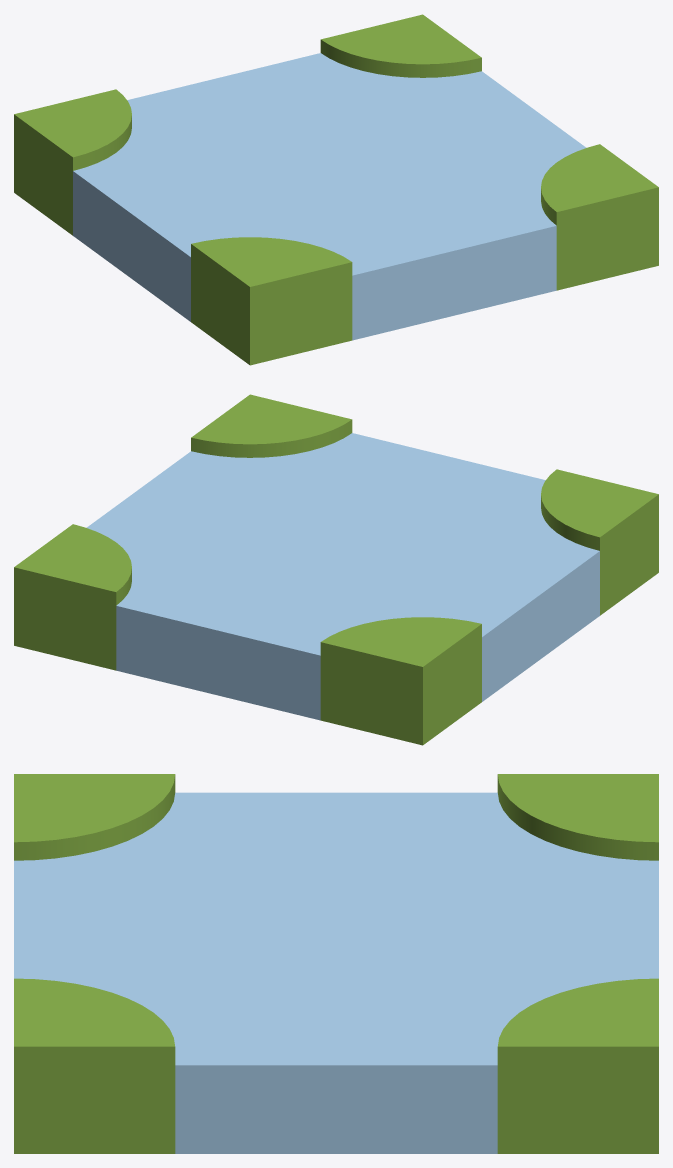
The model's file is roadTile_173.fbx.
3 views of the same model, one above another, from view 1: azimuth 30°, elevation 25°; view 2: azimuth 150°, elevation 25°; view 3: azimuth 270°, elevation 25° (orthographic). The views are drawn at different scales.
Parts seen in each view (by area): view 1: roadTile_173; view 2: roadTile_173; view 3: roadTile_173.
Boxes of the visible parts, x1,y1,x2,y2 form: roadTile_173: (14, 14, 658, 365); roadTile_173: (14, 394, 658, 745); roadTile_173: (14, 774, 658, 1153).
Size of the model in its own units: 118 by 21.65 by 118.
